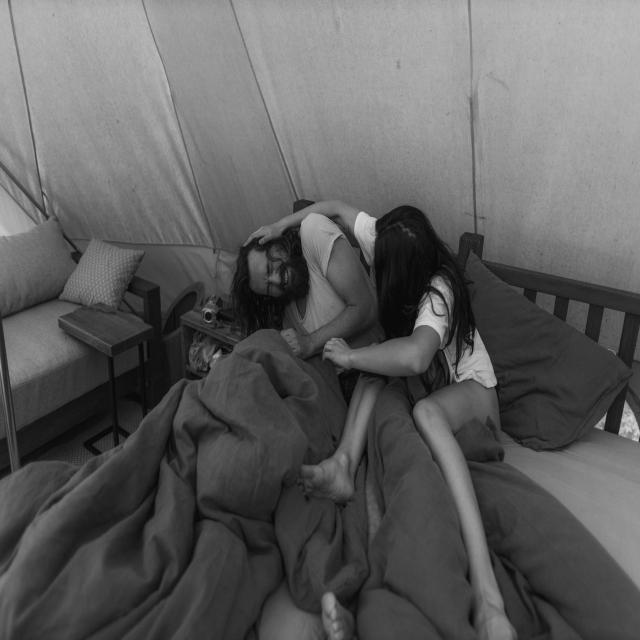lie: (236, 219, 619, 420)
sit: (325, 201, 535, 640)
